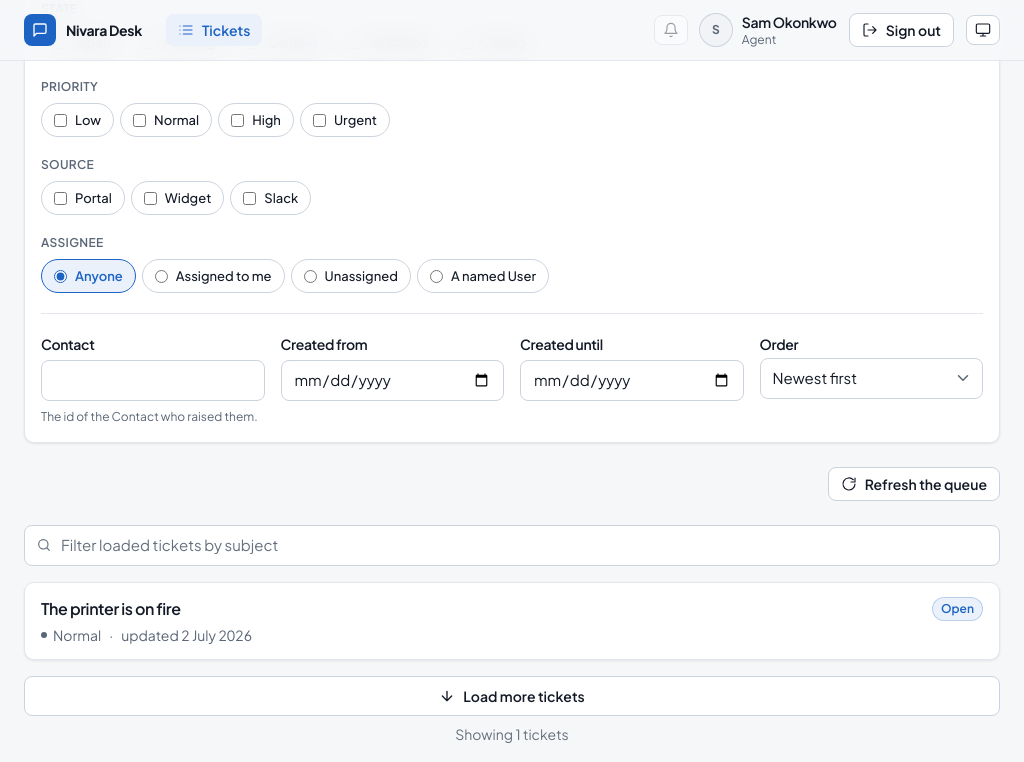
it: the queue › reaches the Tickets past the first page, and offers no count to get there
(page scrolled)
Expected: the number of list items is 1, [25, 582, 999, 658]
Click the button "Load more tickets" at {"x": 512, "y": 696}, box [24, 676, 1000, 716]
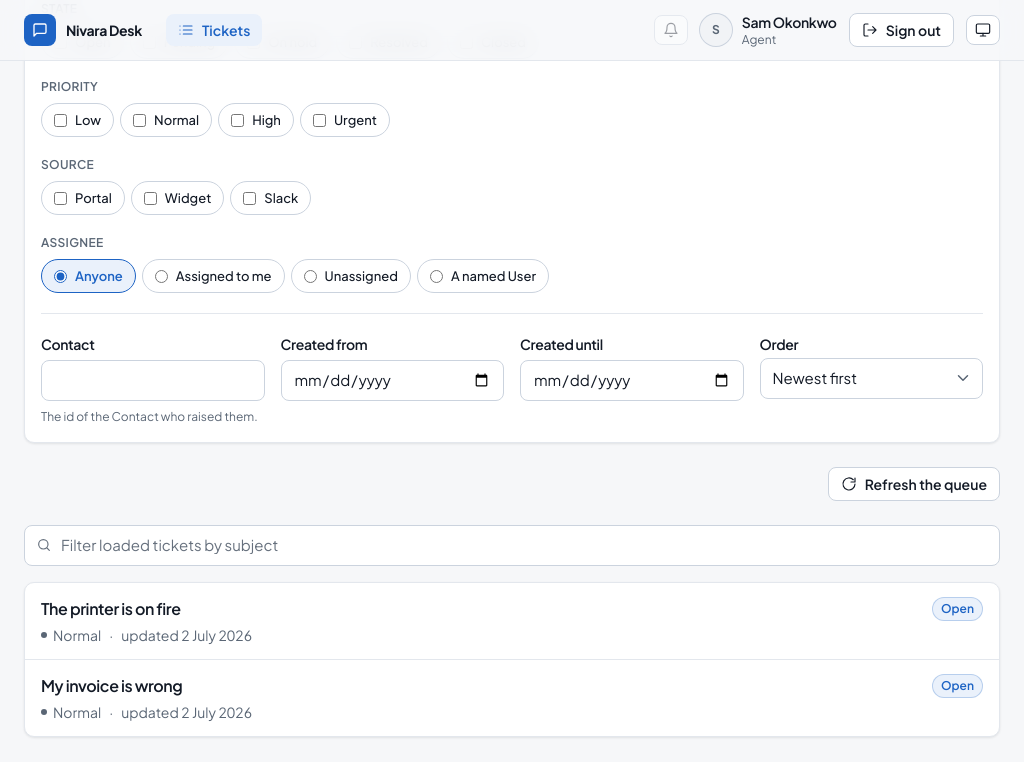
Result: the text "My invoice is wrong" is shown at [41, 674, 182, 696]
Result: the button "Load more" is gone
